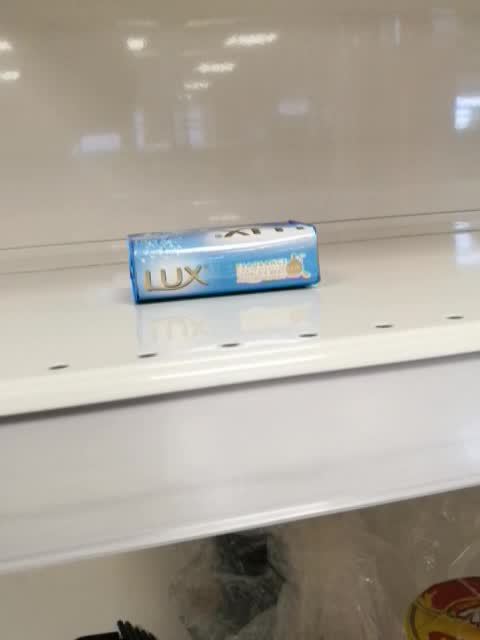soap: (122, 221, 322, 305)
